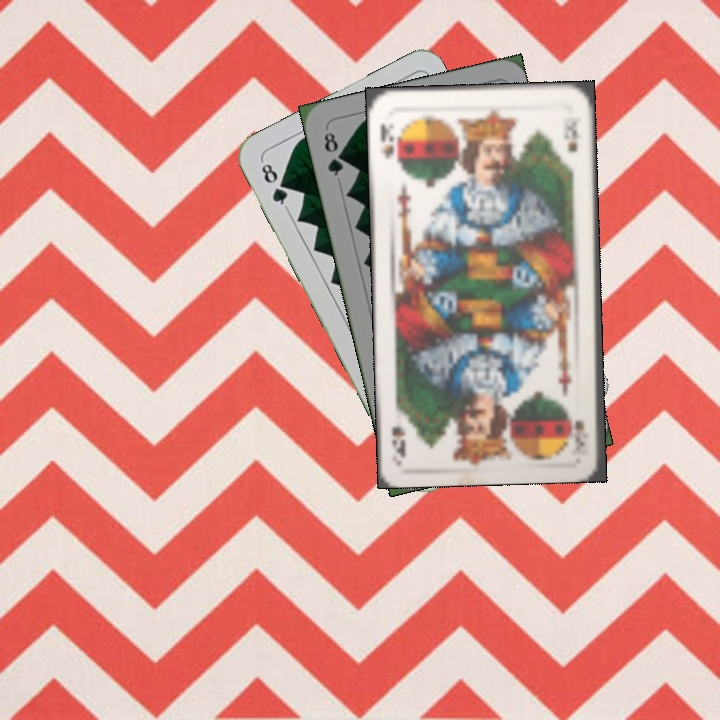G8: (257, 159, 291, 212), (320, 127, 346, 179)
SK: (376, 120, 402, 165), (569, 416, 591, 453)
